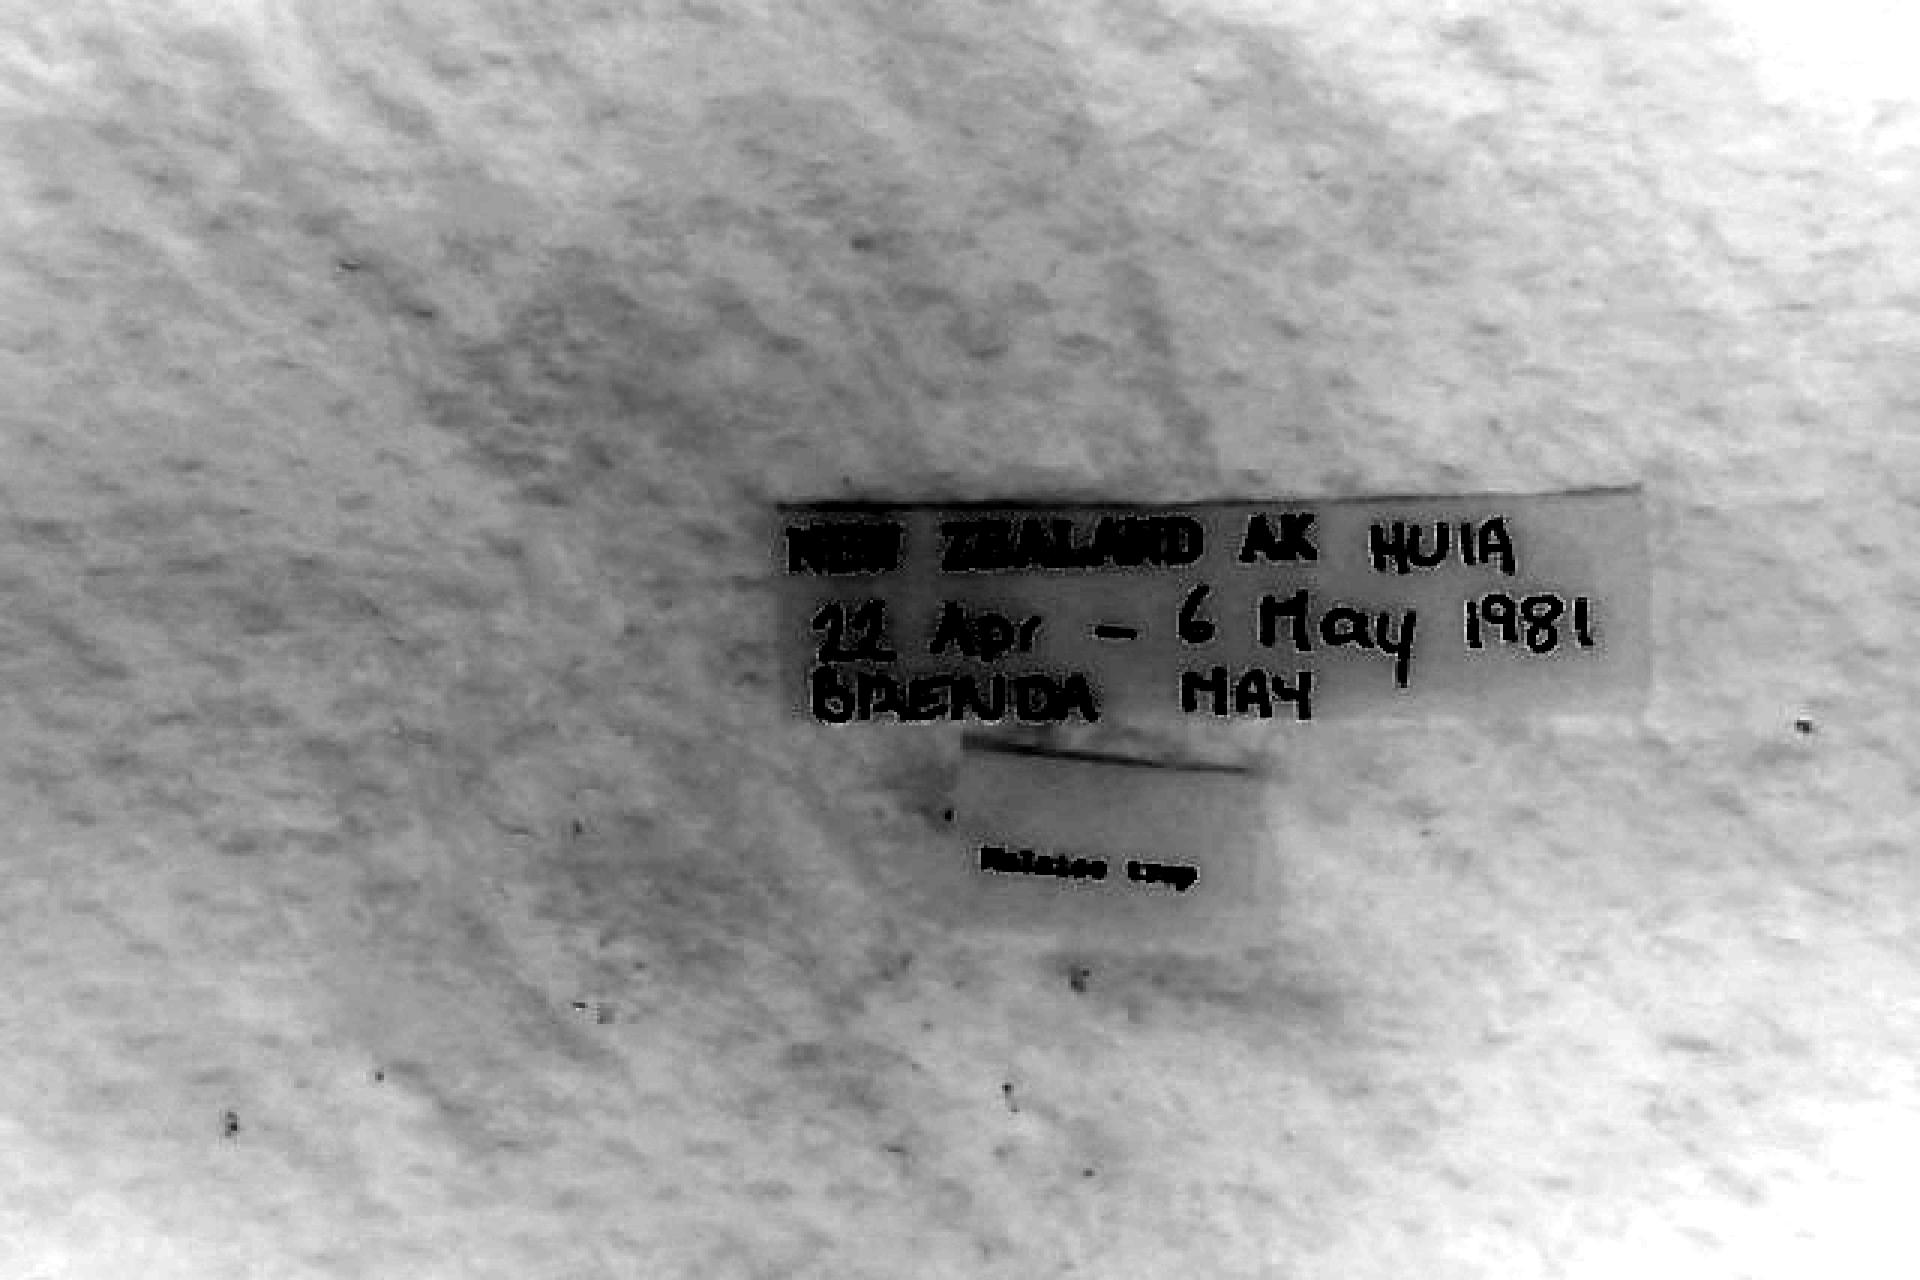mixed_label: (784, 490, 1650, 722)
typed_label: (956, 748, 1271, 942)
